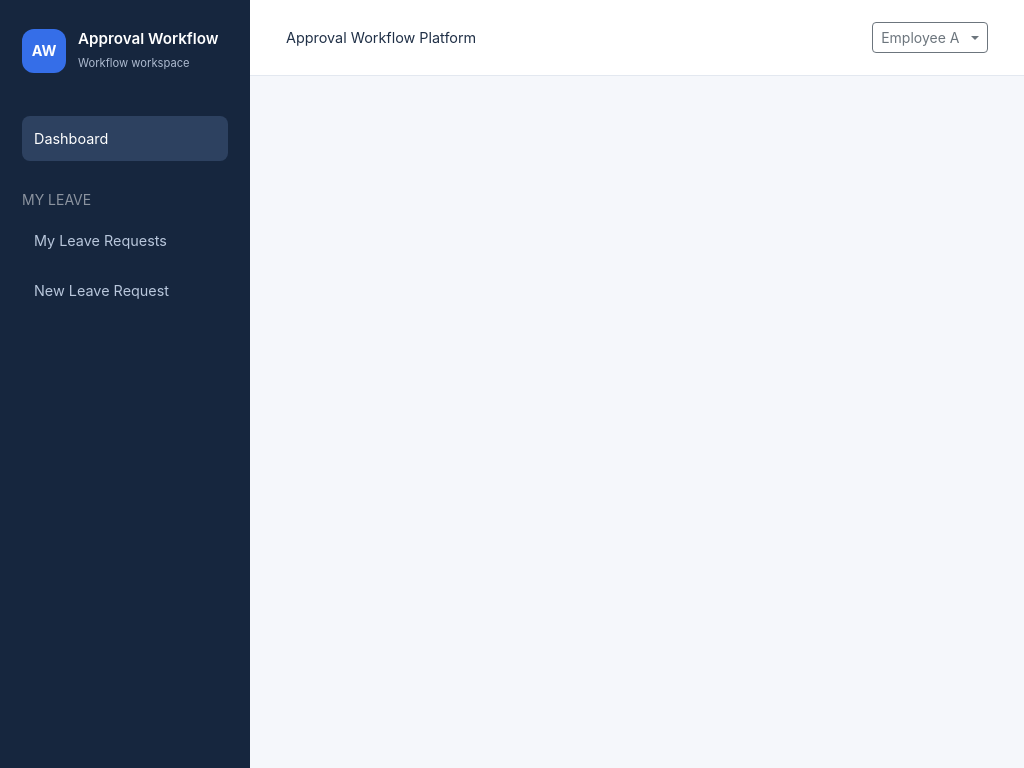
preserves logout failure feedback
Click the button with aria-label "User menu for Employee A".
click(930, 38)  # box [872,22,988,53]
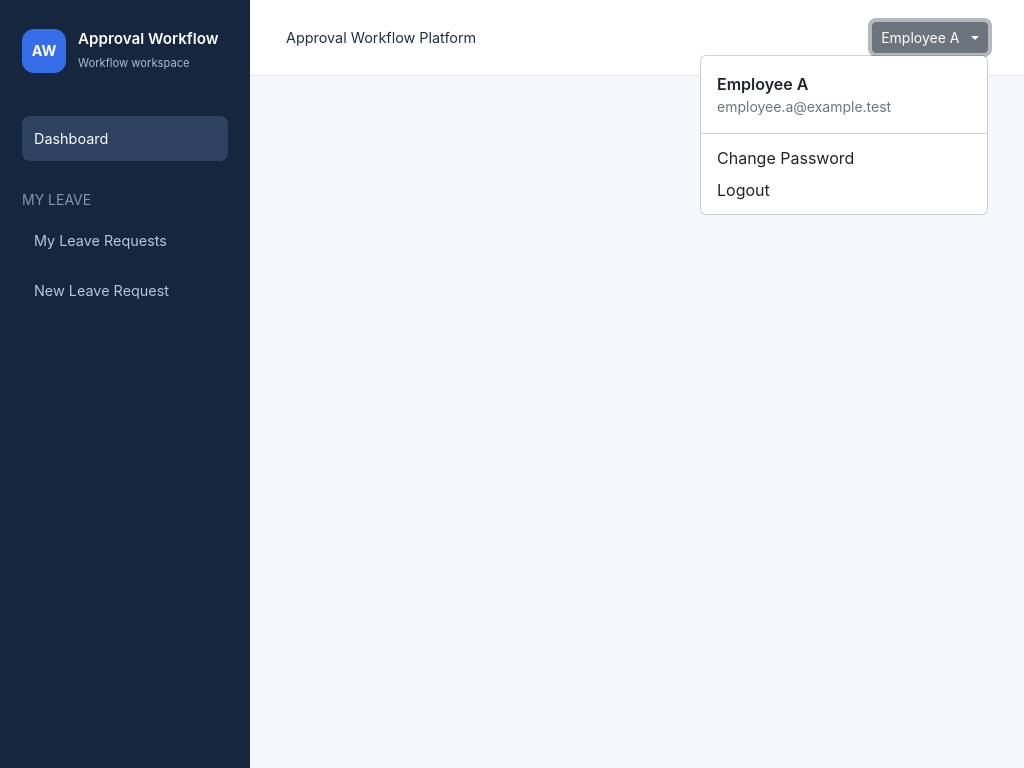
Click the button "Logout".
click(743, 190)  # box [701,174,987,206]
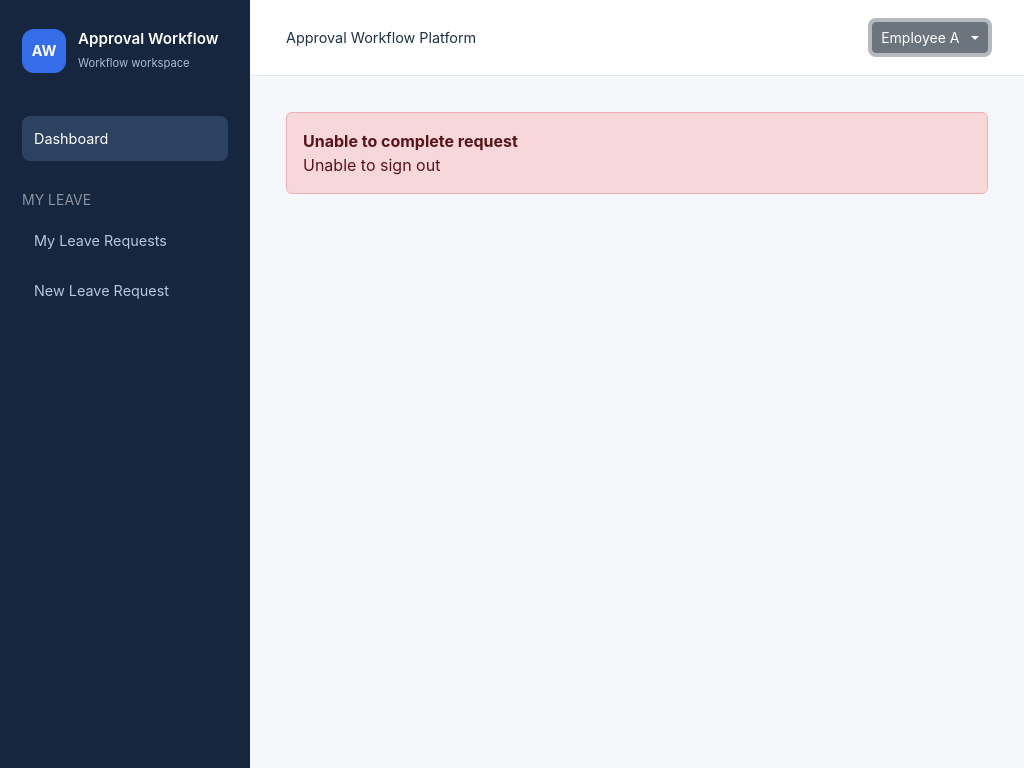
Expected: the text "Unable to sign out" is shown, [303,155,440,175]
